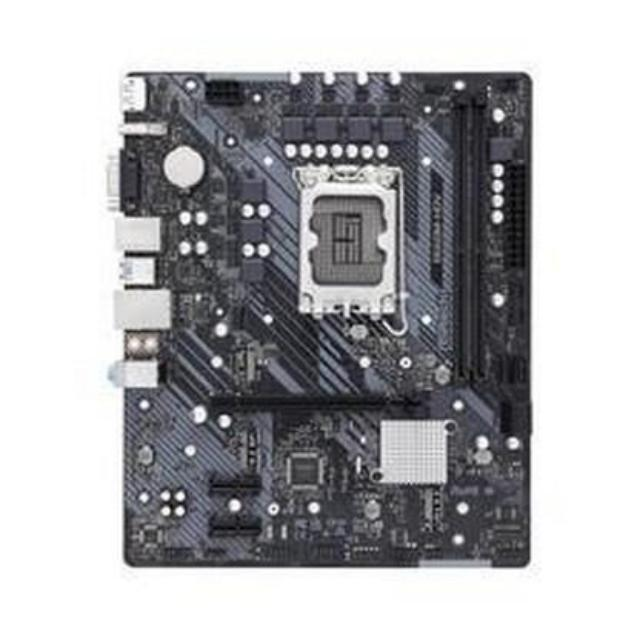Mainboard: (99, 61, 541, 584)
